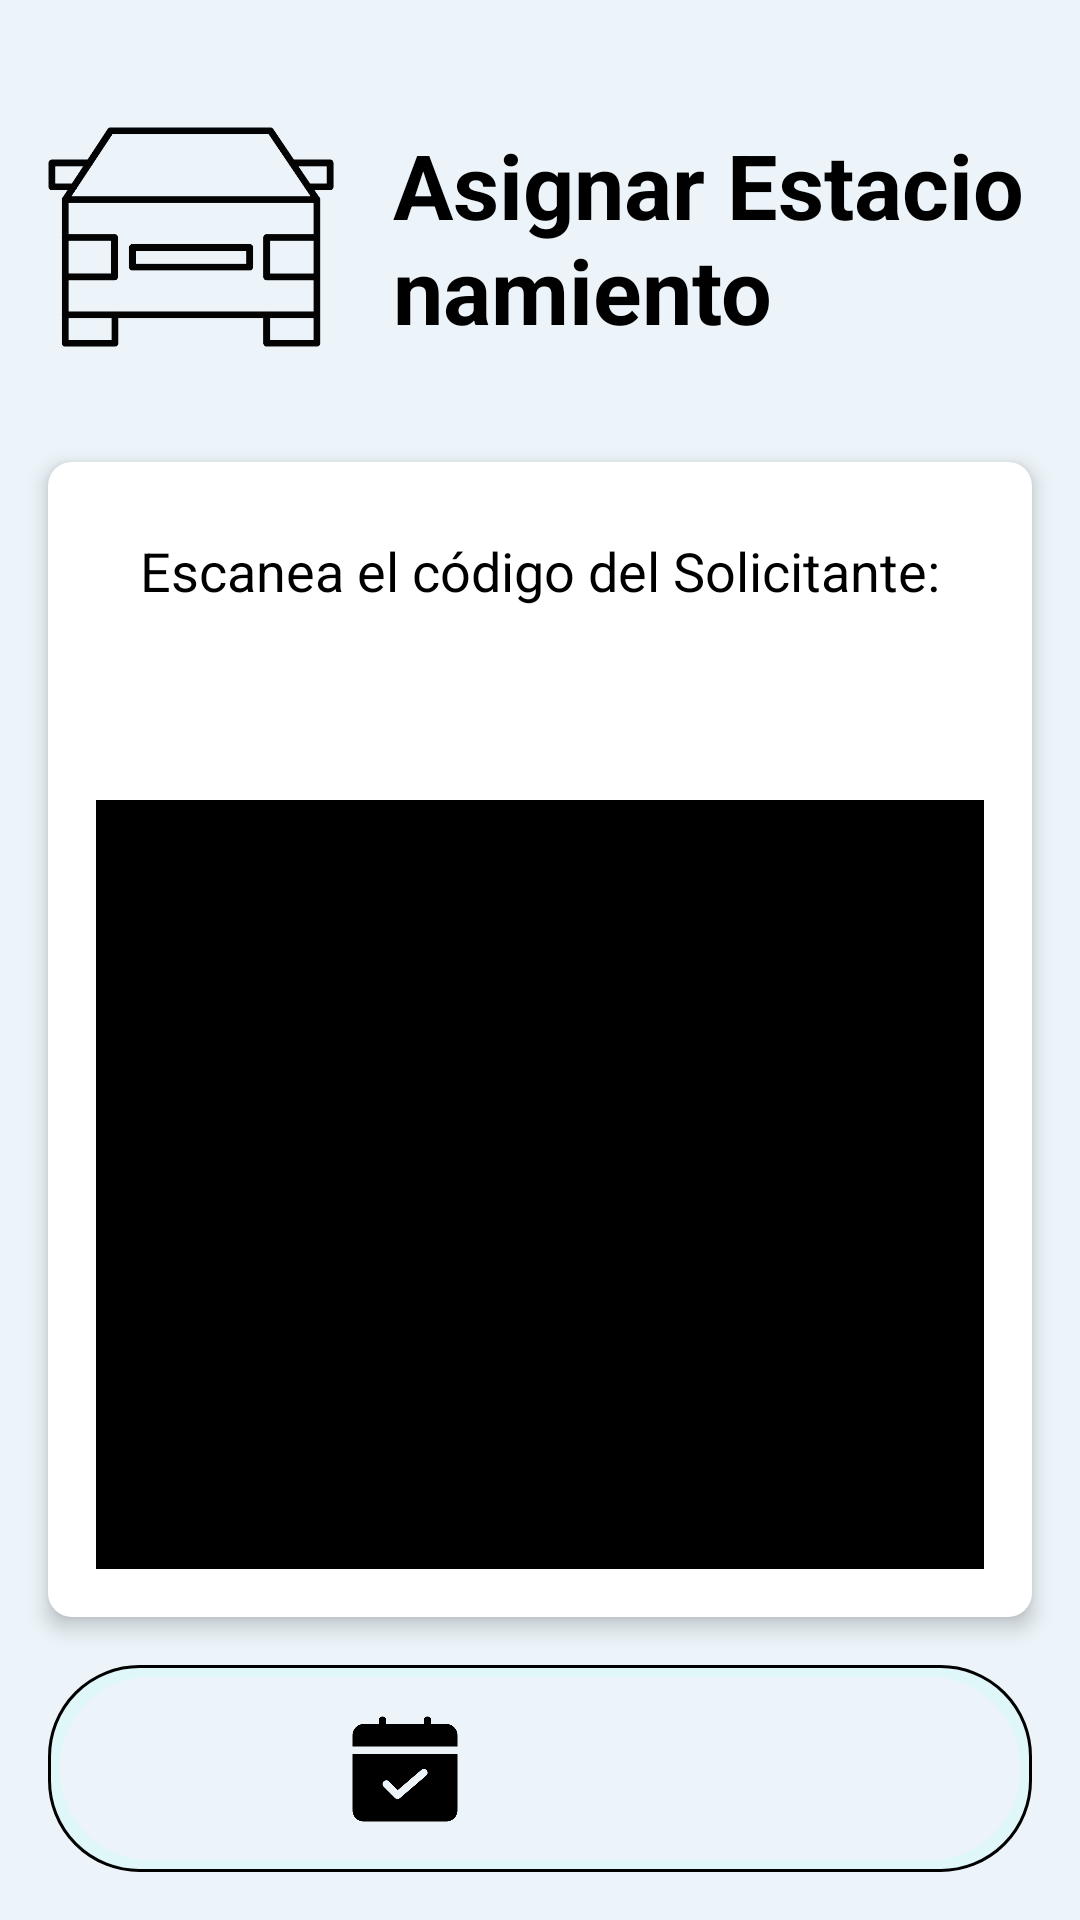

Where icons sit on this 1080×1920 app screen, as [x1, y1, x2, y2]:
calendar: [352, 1716, 458, 1822]
car: [48, 127, 334, 347]
